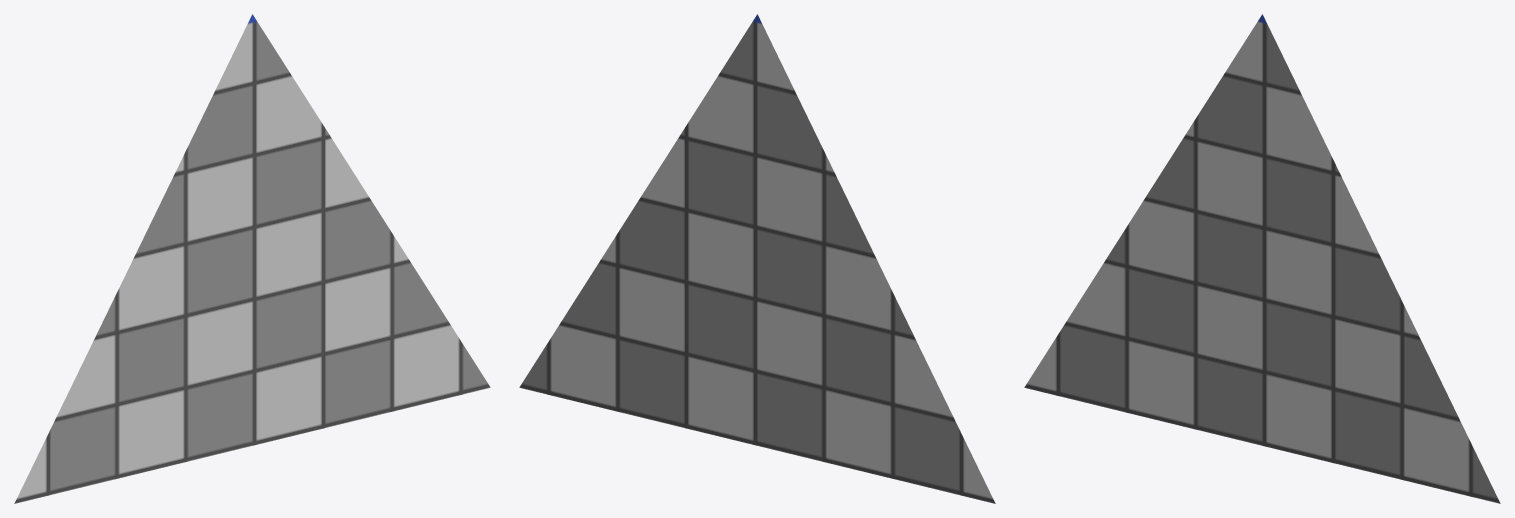
File: triangle.glb
3 renders of one model, left to right at view 1: azimuth 30°, elevation 25°; view 2: azimuth 150°, elevation 25°; view 3: azimuth 330°, elevation 25°, orthographic.
Parts seen in each view (by area): view 1: triangle; view 2: triangle; view 3: triangle.
Part boxes in pixels (left/top/right/bottom): triangle: left=14, top=14, right=490, bottom=503; triangle: left=519, top=14, right=995, bottom=503; triangle: left=1024, top=14, right=1500, bottom=503.
Bounding box in the file's own units: 1.73 × 1.5 × 0.
Materials: 1 (1 with a texture image).
